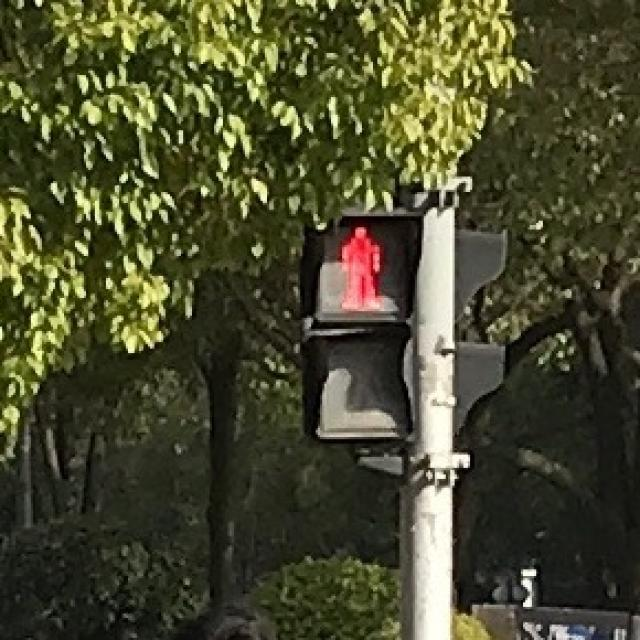red-crossing: (318, 214, 400, 314)
